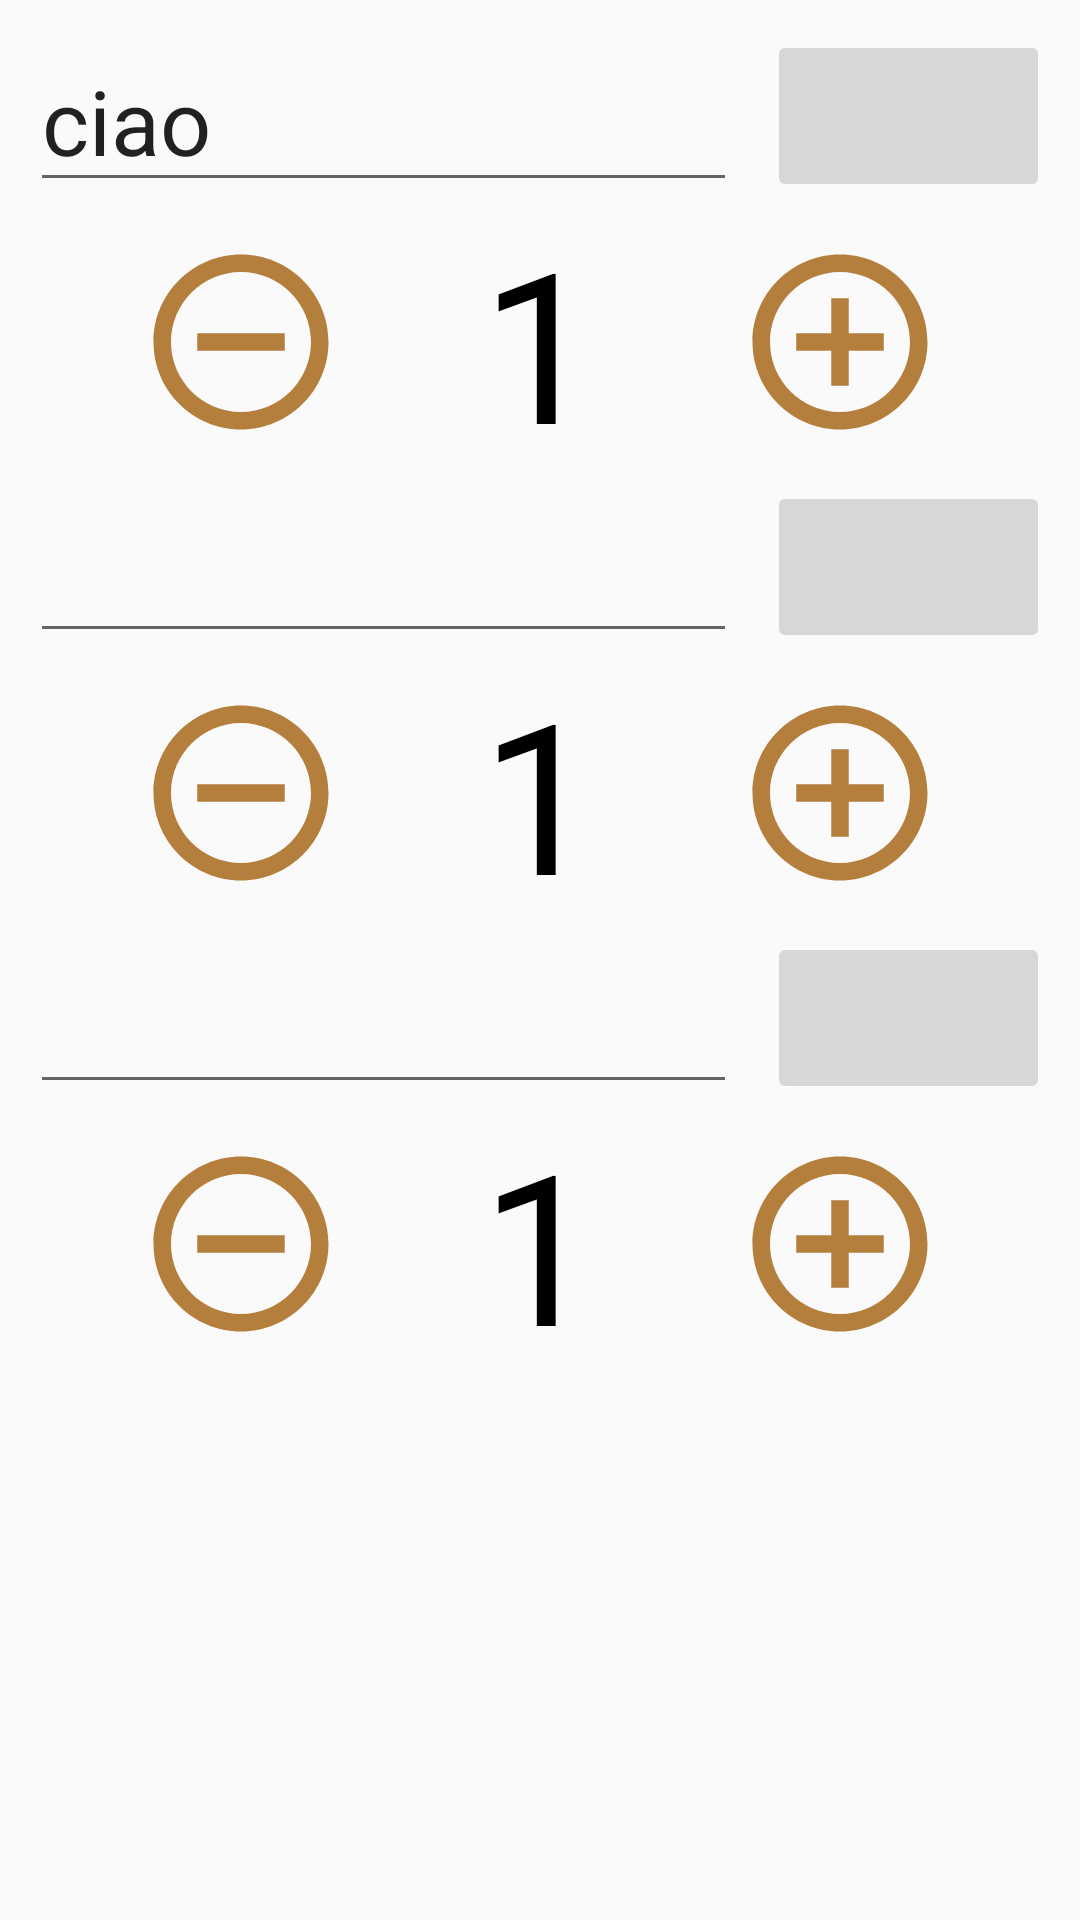

Point at icon controls on the screen. Image size 1080*1920, points as [x,y].
add circle: [840,342], [840,793], [840,1244]
remove circle: [241,342], [241,793], [241,1244]
